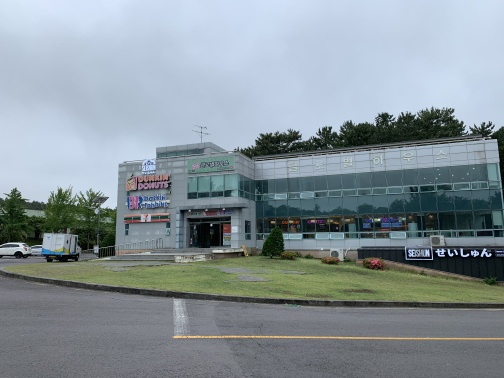Global House: (107, 133, 503, 279)
